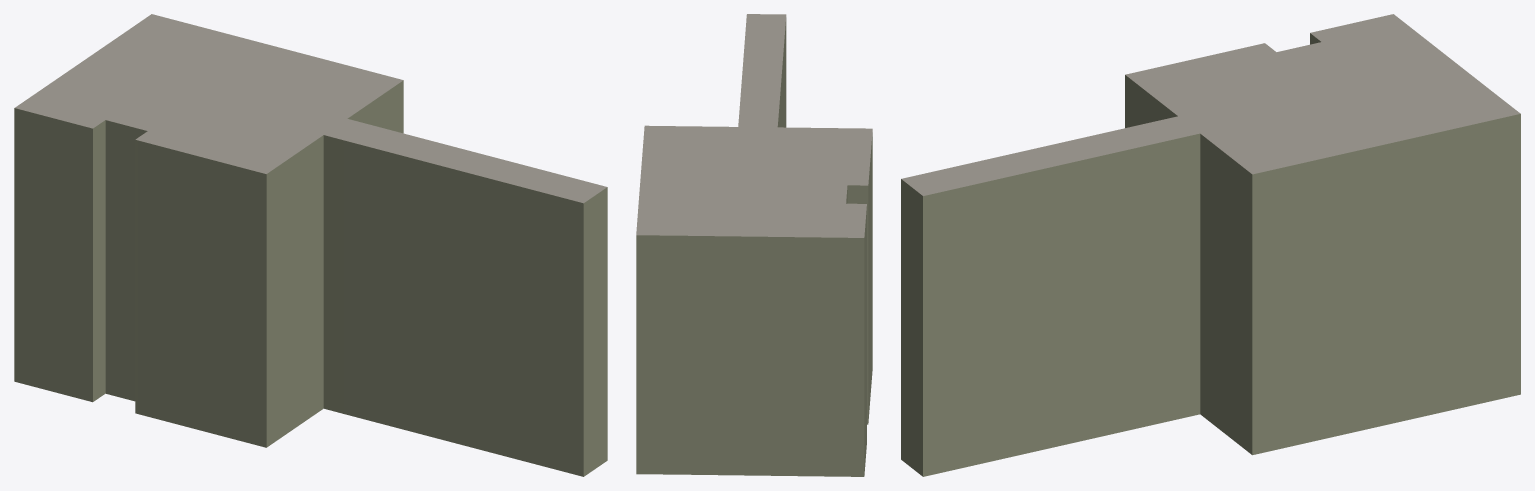
File: nyc-1022633-0.glb
3 views of the same model, side by side, from view 1: azimuth 30°, elevation 25°; view 2: azimuth 150°, elevation 25°; view 3: azimuth 270°, elevation 25° (orthographic). The views are drawn at different scales.
Parts seen in each view (by area): view 1: nyc-1022633-0; view 2: nyc-1022633-0; view 3: nyc-1022633-0.
Boxes of the visible parts, left/top/right/bottom form: nyc-1022633-0: left=14, top=14, right=607, bottom=476; nyc-1022633-0: left=636, top=14, right=872, bottom=476; nyc-1022633-0: left=901, top=14, right=1520, bottom=476.
Size of the model in its own units: 42.23 by 30.35 by 60.71.
